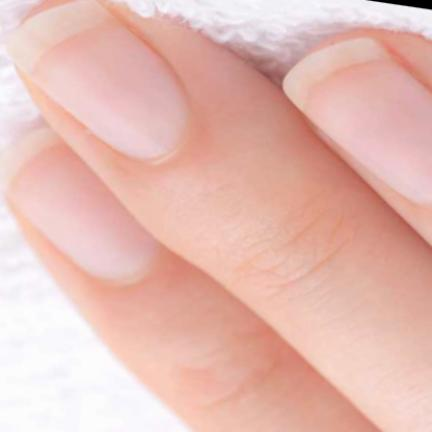Nail: (5, 0, 190, 160), (284, 40, 431, 204), (0, 127, 153, 280)
